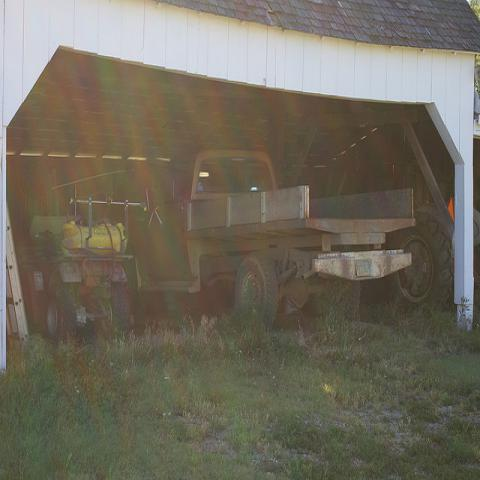truck: (137, 150, 416, 334), (312, 161, 460, 321)
